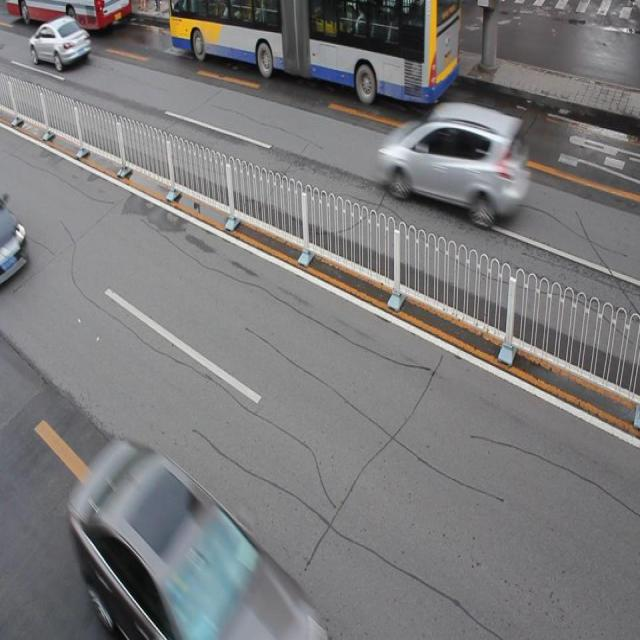car: (71, 443, 318, 640), (383, 102, 524, 220), (28, 14, 92, 71)
van: (168, 1, 460, 103), (1, 1, 132, 33)
